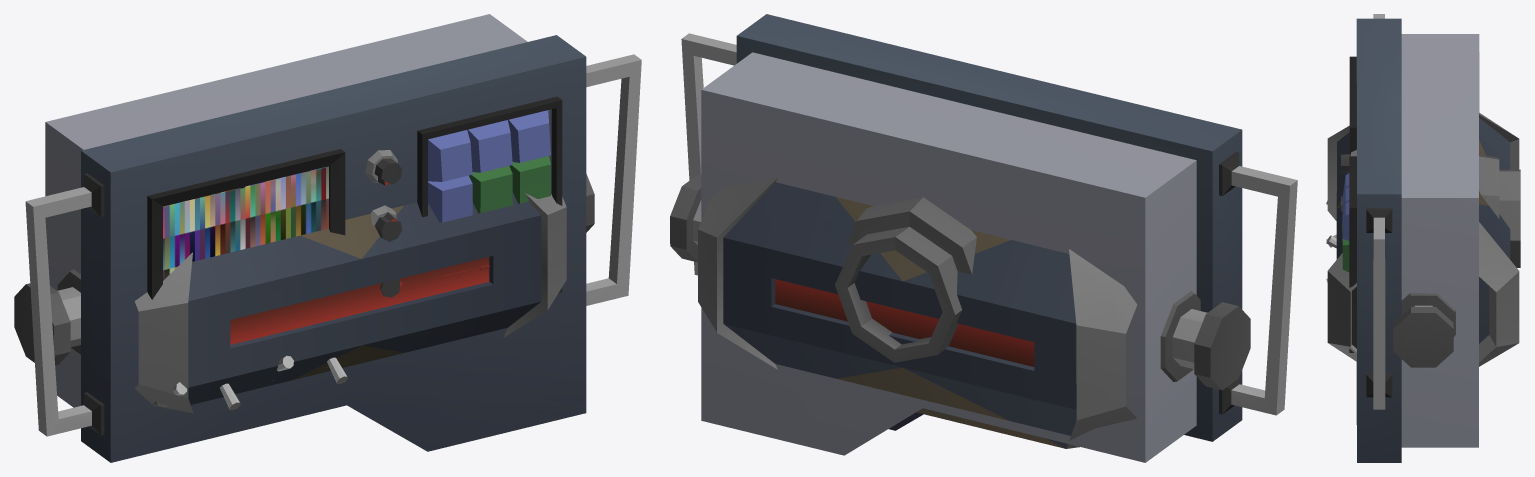
Rendered from Assets_Minijuegos.fbx.
3 views of the same model, side by side, from view 1: azimuth 30°, elevation 25°; view 2: azimuth 150°, elevation 25°; view 3: azimuth 270°, elevation 25° (orthographic). The views are drawn at different scales.
Visible parts, largest first — view 1: Panel_soloCarcaza, Bateria_decoracion; view 2: Panel_soloCarcaza, Bateria_decoracion; view 3: Panel_soloCarcaza, Bateria_decoracion.
Part boxes in pixels (left/top/right/bottom): Panel_soloCarcaza: left=25, top=14, right=641, bottom=462; Bateria_decoracion: left=14, top=174, right=594, bottom=413; Panel_soloCarcaza: left=681, top=14, right=1297, bottom=462; Bateria_decoracion: left=670, top=174, right=1250, bottom=448; Panel_soloCarcaza: left=1326, top=14, right=1520, bottom=462; Bateria_decoracion: left=1327, top=113, right=1519, bottom=367.
Bounding box in the file's own units: 0.0874 × 0.0489 × 0.0321.
